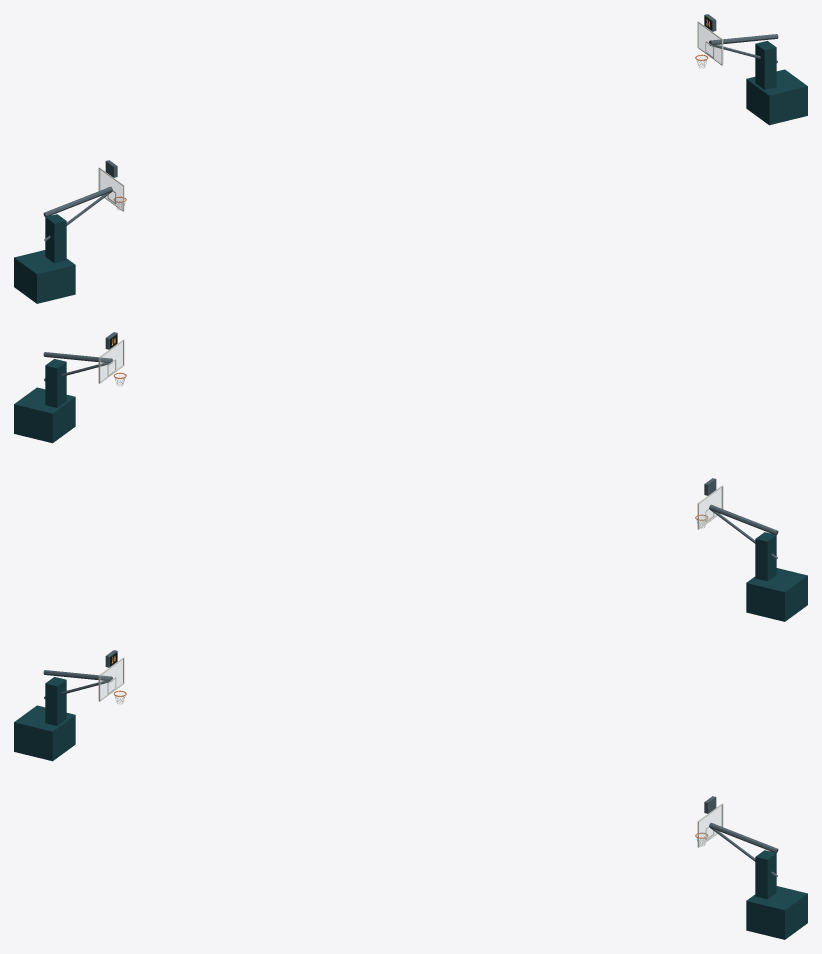
File: hoops.glb
3 renders of one model, top to bottom at view 1: azimuth 30°, elevation 25°; view 2: azimuth 150°, elevation 25°; view 3: azimuth 330°, elevation 25°, orthographic.
Parts seen in each view (by area): view 1: stanchion-pads, backboard-glass, basket-support; view 2: stanchion-pads, backboard-glass, basket-support; view 3: stanchion-pads, backboard-glass, basket-support.
Part boxes in pixels (x1,y1,x2,y2): stanchion-pads: (14,41,807,303); backboard-glass: (100,24,721,209); basket-support: (43,34,778,217); stanchion-pads: (14,359,807,621); backboard-glass: (100,342,721,527); basket-support: (43,352,778,535); stanchion-pads: (14,677,807,939); backboard-glass: (100,660,721,845); basket-support: (43,670,778,853).
Bounding box in the file's own units: 33.8 × 4.65 × 1.86.
Materials: 6 (1 with a texture image).
